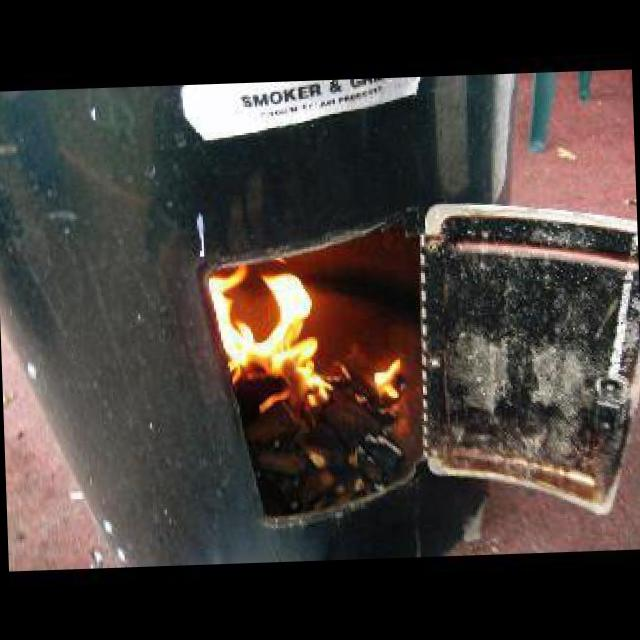Fire: (205, 245, 408, 418)
